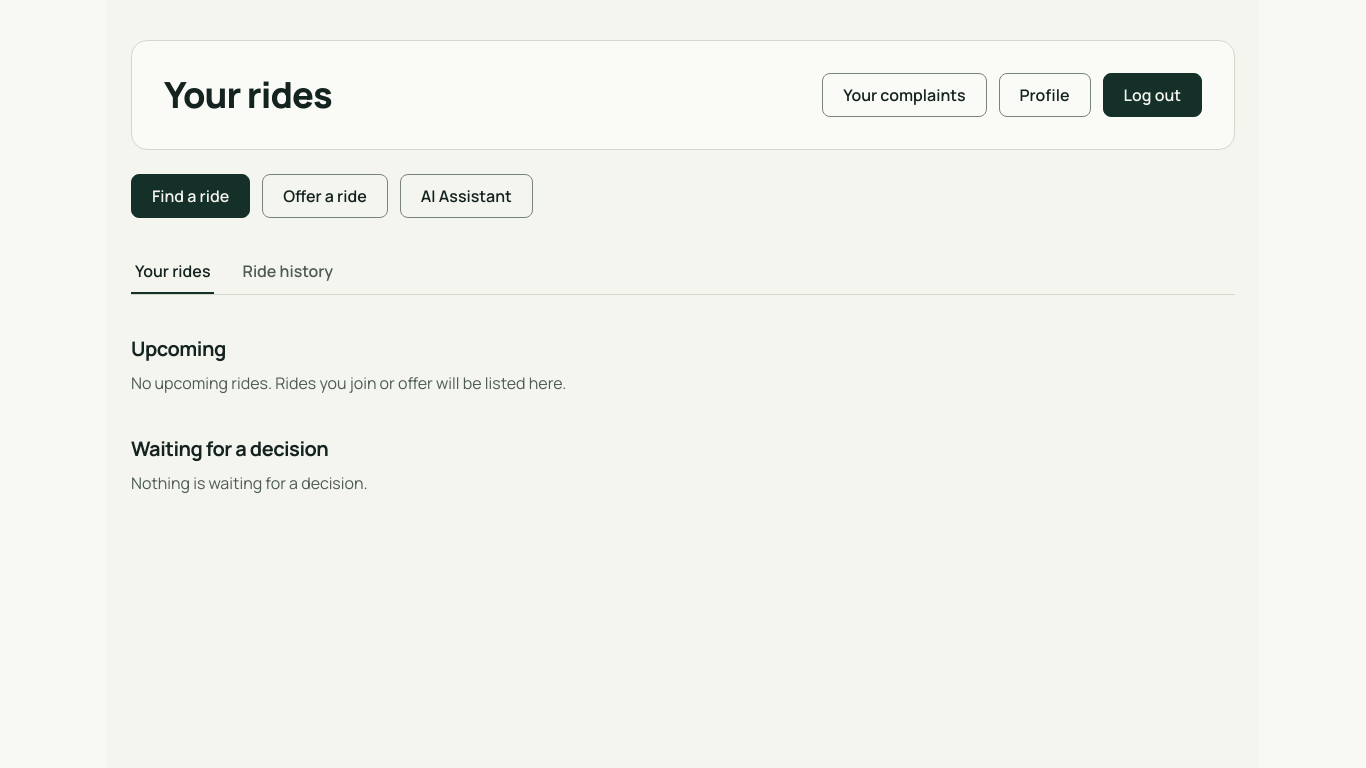
StudentHome › switches between tabs in place without navigating away
Click the tab "Ride history" at coordinates (288, 272), box [238,250,337,294]
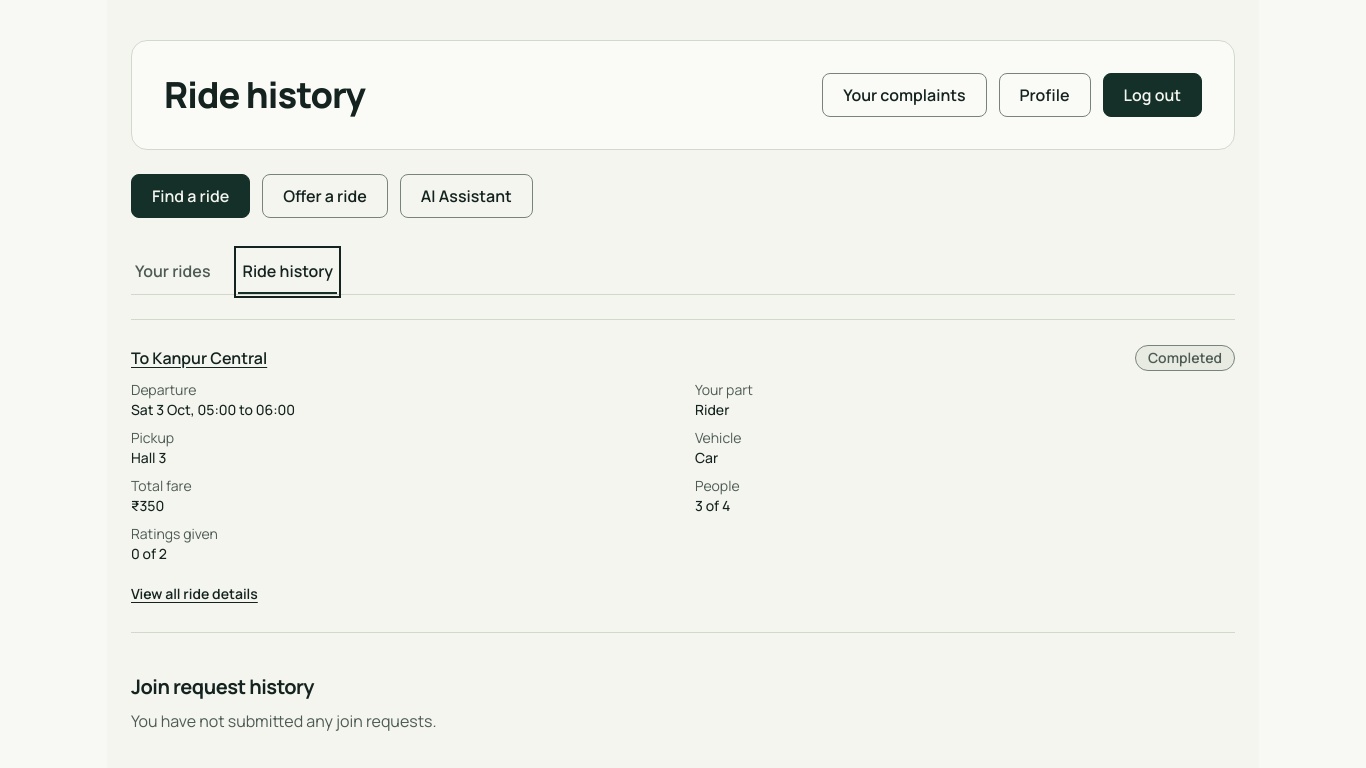
expect the heading "Ride history" is shown: met, box [164,75,365,115]
expect the panel named "Ride history" is shown: met, box [131,319,1235,733]
expect the link "To Kanpur Central" is shown: met, box [131,347,267,369]
